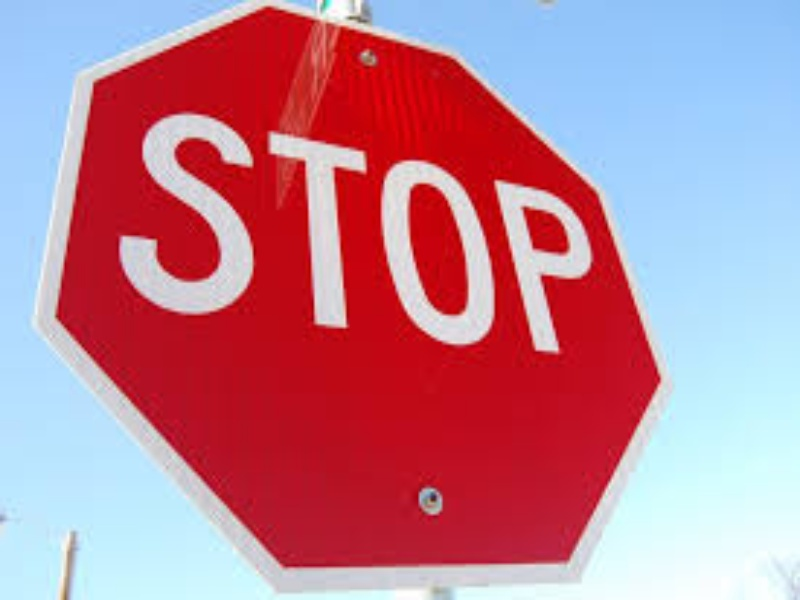Stop_Sign: (37, 9, 660, 587)
